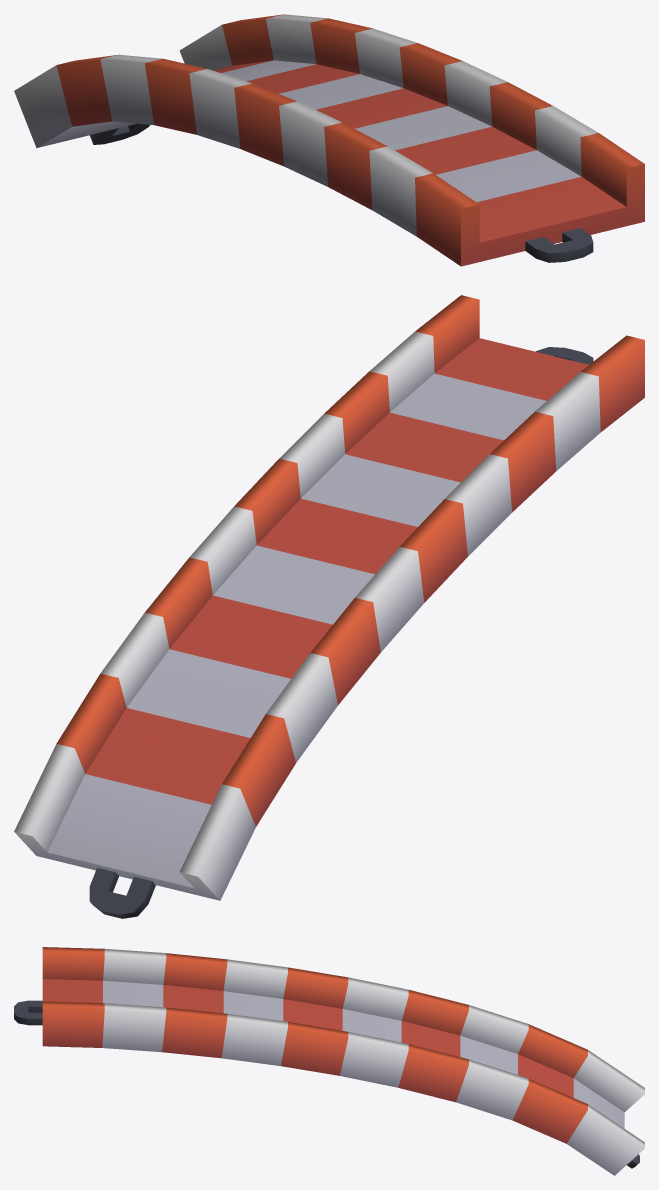
File: track-striped-narrow-straight-hill-end.glb
The picture shows the model from 3 angles, top to bottom: view 1: azimuth 30°, elevation 25°; view 2: azimuth 150°, elevation 25°; view 3: azimuth 270°, elevation 25°; orthographic projection. The views are drawn at different scales.
Visible parts, largest first — view 1: track-striped-narrow-straight-hill-end; view 2: track-striped-narrow-straight-hill-end; view 3: track-striped-narrow-straight-hill-end.
Part boxes in pixels (box(x1,y1,x2,y2)): track-striped-narrow-straight-hill-end: box(14, 14, 644, 266); track-striped-narrow-straight-hill-end: box(14, 295, 644, 918); track-striped-narrow-straight-hill-end: box(14, 947, 644, 1175).
Size of the model in its own units: 1 by 1.44 by 4.41.
